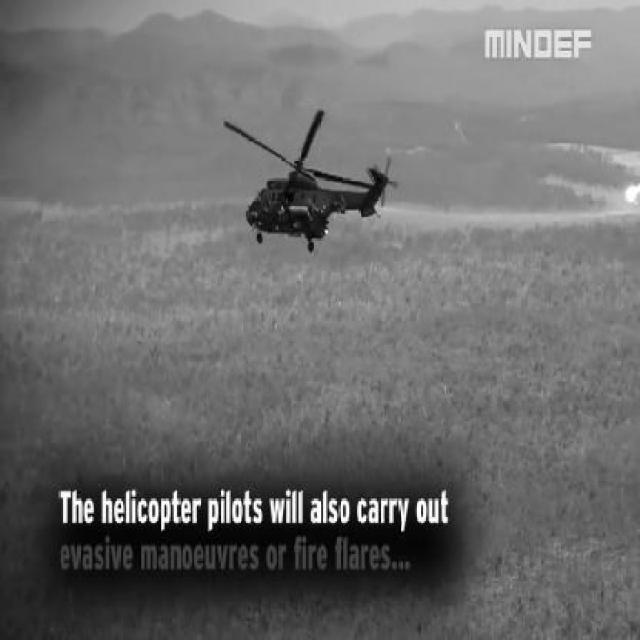Helicopter: (224, 108, 401, 256)
